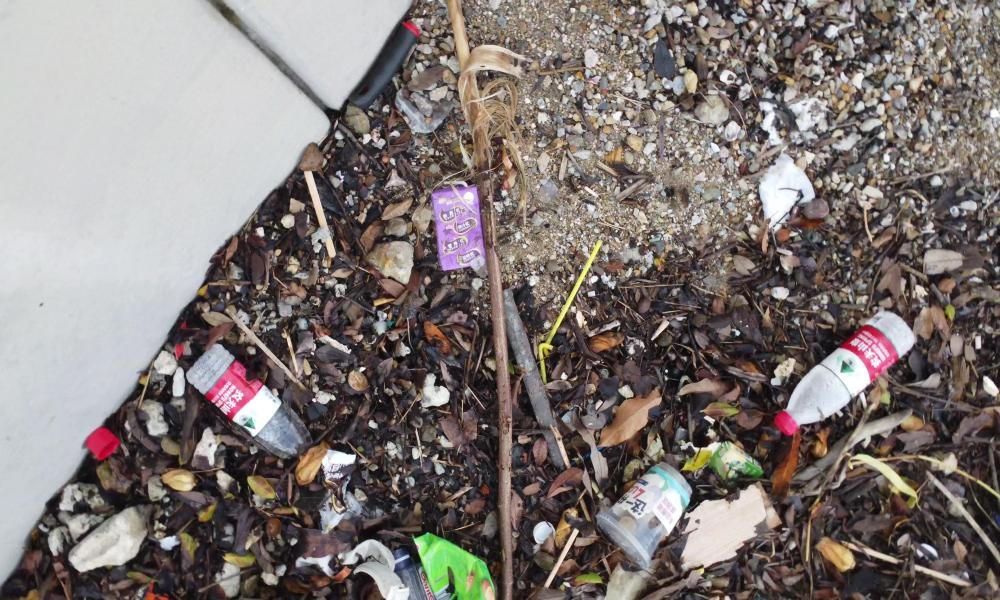carton: (434, 178, 485, 272)
plastic bottle: (188, 346, 314, 471), (784, 316, 917, 434), (599, 462, 680, 563)
